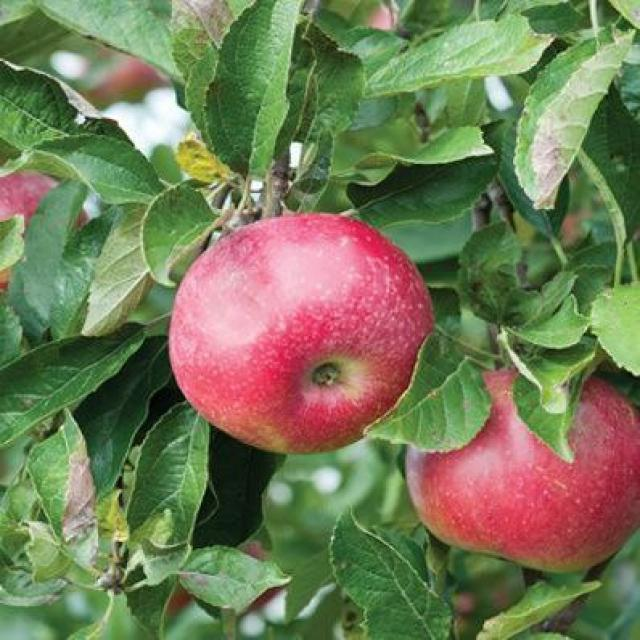Rotten: (176, 212, 412, 436)
